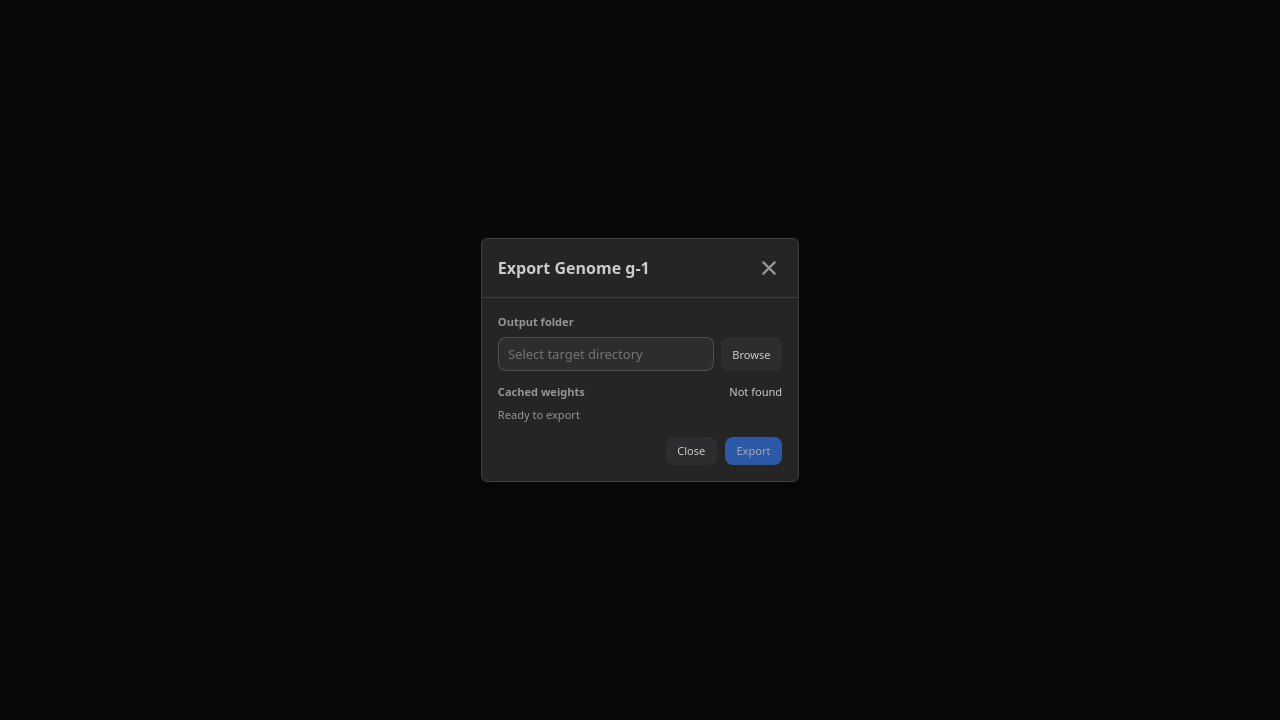
Test case: ExportGenomeWithWeightsModal › shows error state on invalid export path
This screenshot has width=1280, height=720.
In the field with placeholder "Select target directory": (606, 354) [498,337,714,371], type "Z:/bad/path"
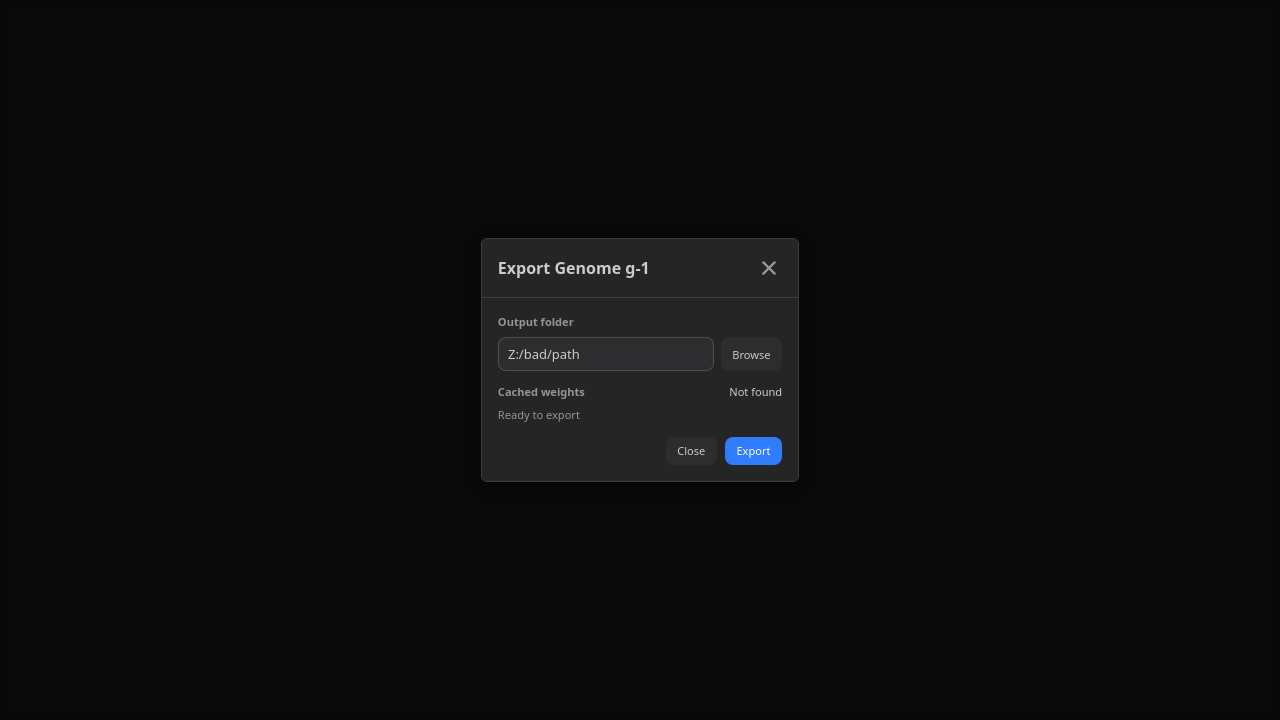
Click the button "Export": (753, 451) [725,437,782,465]
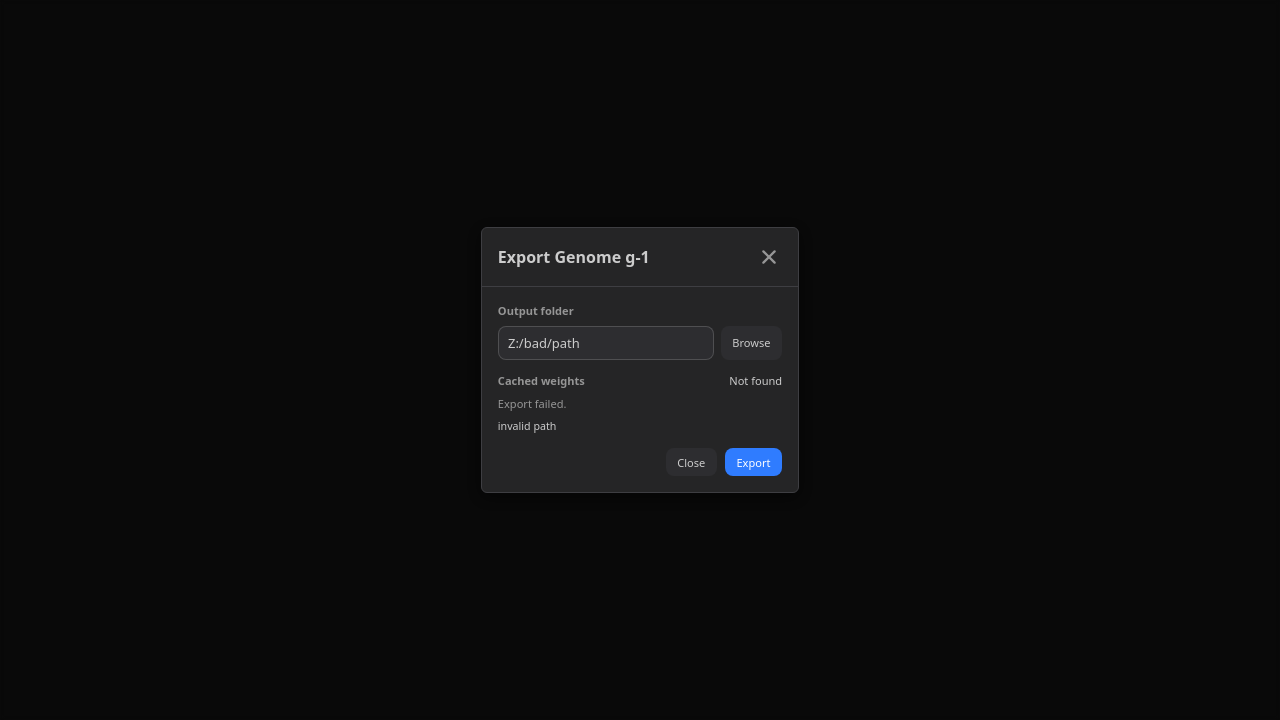
Now the text "invalid path" is shown, box [498,419,556,433]
